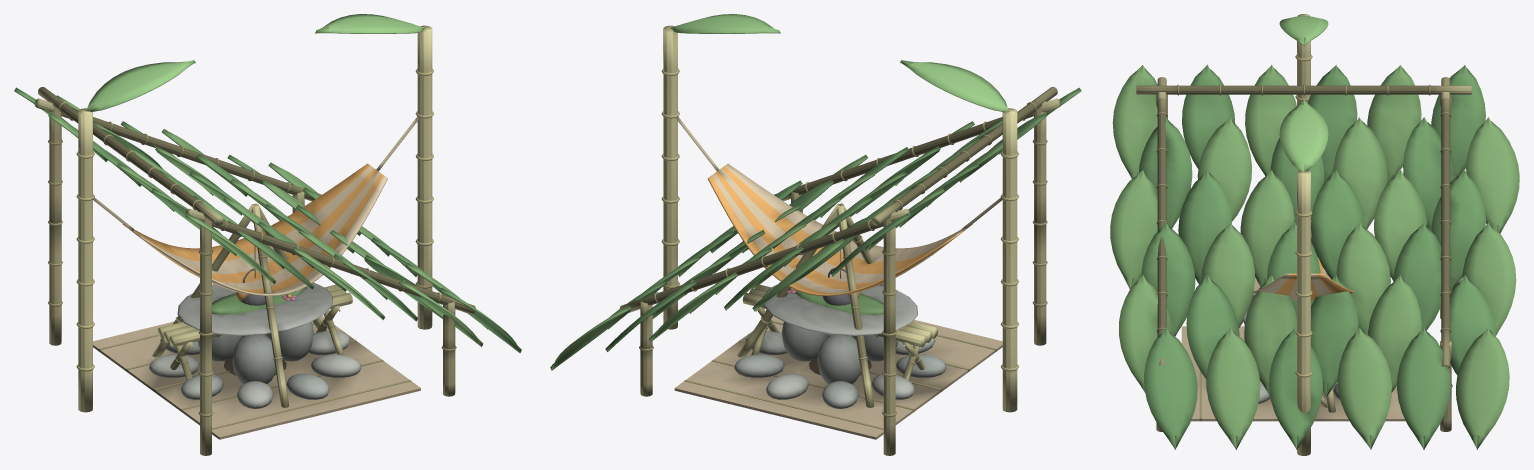
File: camp_jungle.glb
3 views of the same model, side by side, from view 1: azimuth 30°, elevation 25°; view 2: azimuth 150°, elevation 25°; view 3: azimuth 270°, elevation 25° (orthographic). The views are drawn at different scales.
Visible parts, largest first — view 1: Tent, Hammock, Table, Fire, Seat; view 2: Tent, Hammock, Table, Fire, Seat; view 3: Tent, Hammock, Fire.
Boxes of the visible parts, x1,y1,x2,y2 form: Tent: [14, 87, 521, 455]; Hammock: [76, 14, 433, 412]; Table: [177, 282, 332, 383]; Fire: [149, 203, 361, 408]; Seat: [157, 284, 352, 380]; Tent: [550, 87, 1081, 455]; Hammock: [661, 14, 1018, 412]; Table: [762, 285, 917, 383]; Fire: [734, 203, 946, 408]; Seat: [742, 284, 937, 380]; Tent: [1110, 64, 1519, 449]; Hammock: [1253, 14, 1353, 455]; Fire: [1238, 231, 1340, 412].
Bounding box in the file's own units: 3.18 × 2.85 × 3.18.
